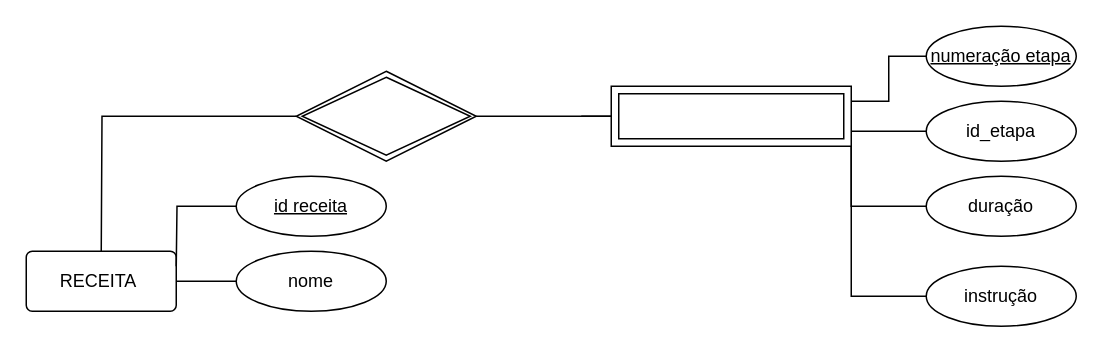
Image size: 1103x353. Some labels were removed from this diagram. Here are the shapes that lost their labels. From the top down, the box of each, then its label:
(295, 70, 476, 161): POSSUI
(610, 85, 851, 146): ETAPA (entidade fraca))
